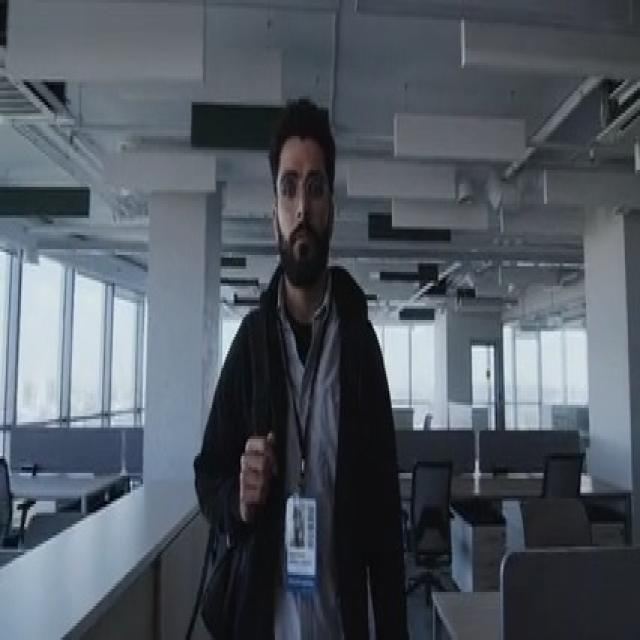Jacket_Wearer: (189, 255, 404, 640)
Person: (183, 90, 408, 640)
